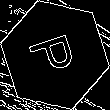P_E: (26, 29, 84, 81)
